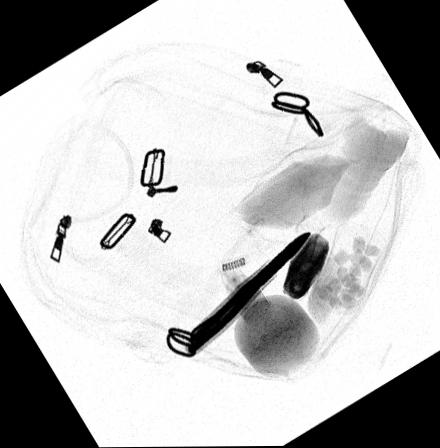Pliers: (187, 230, 309, 353)
